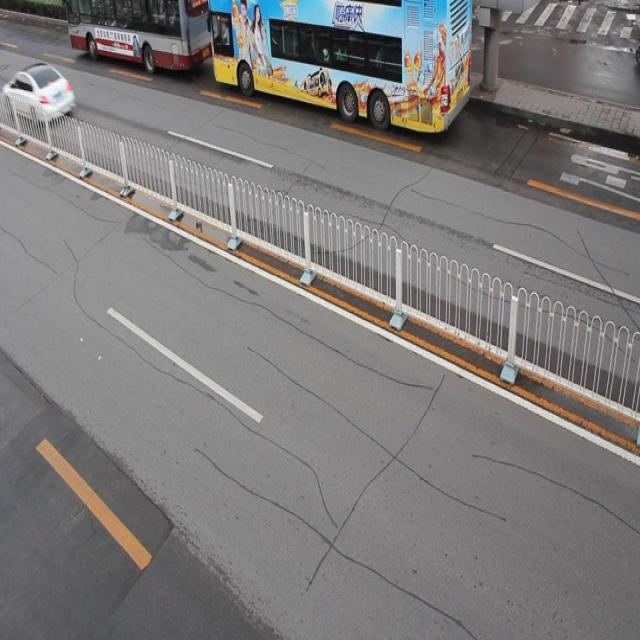car: (0, 59, 74, 124)
van: (208, 1, 471, 132), (63, 1, 210, 64)
